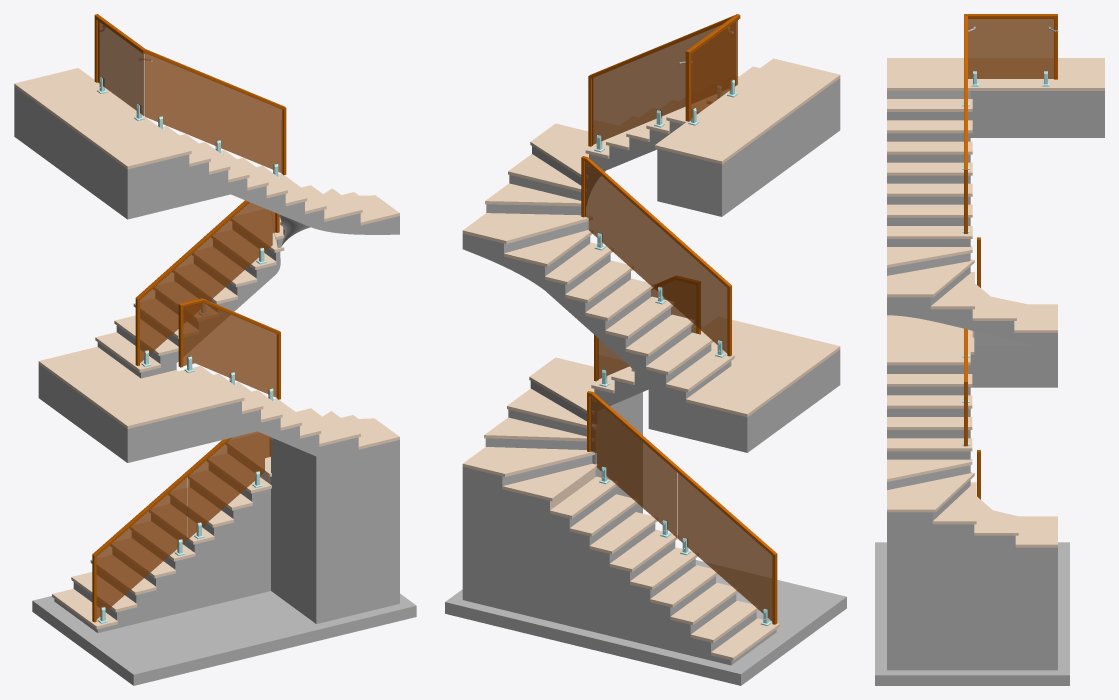
The model's file is 3D Сборка 1.obj.
The picture shows the model from 3 angles, left to right: view 1: azimuth 30°, elevation 25°; view 2: azimuth 150°, elevation 25°; view 3: azimuth 270°, elevation 25°; orthographic projection. The views are drawn at different scales.
Size of the model in its own units: 3.96 by 7.86 by 2.9.
